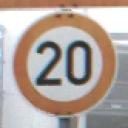speed_limit_20: (12, 8, 118, 117)
